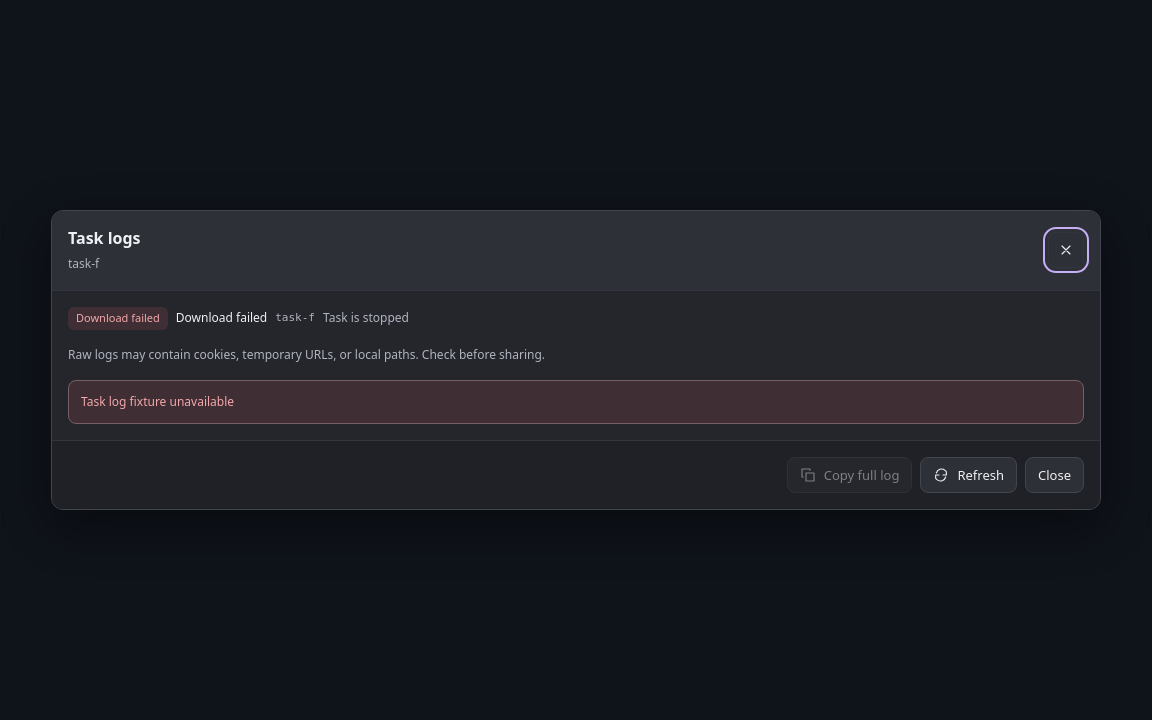
raw task logs › keeps an empty legacy history honest and can retry an error
This screenshot has width=1152, height=720.
Expected: the message reads "Task log fixture unavailable", [81,393,234,410]
Click the button "Refresh" at (969, 475), box [920,457,1017,493]
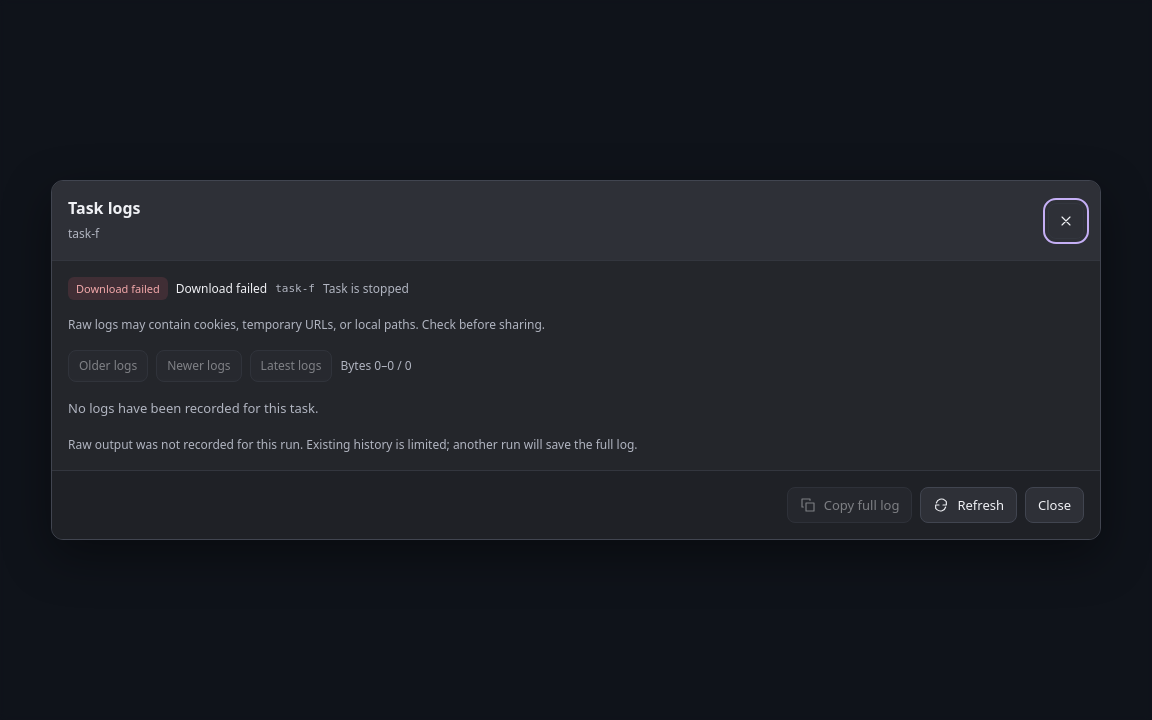
Result: the text "No logs have been recorded for this task." is shown at [68,399,318,417]
Result: the text "Raw output was not recorded for this run" is shown at [68,436,638,453]
Result: the message "Task log fixture unavailable" is gone
